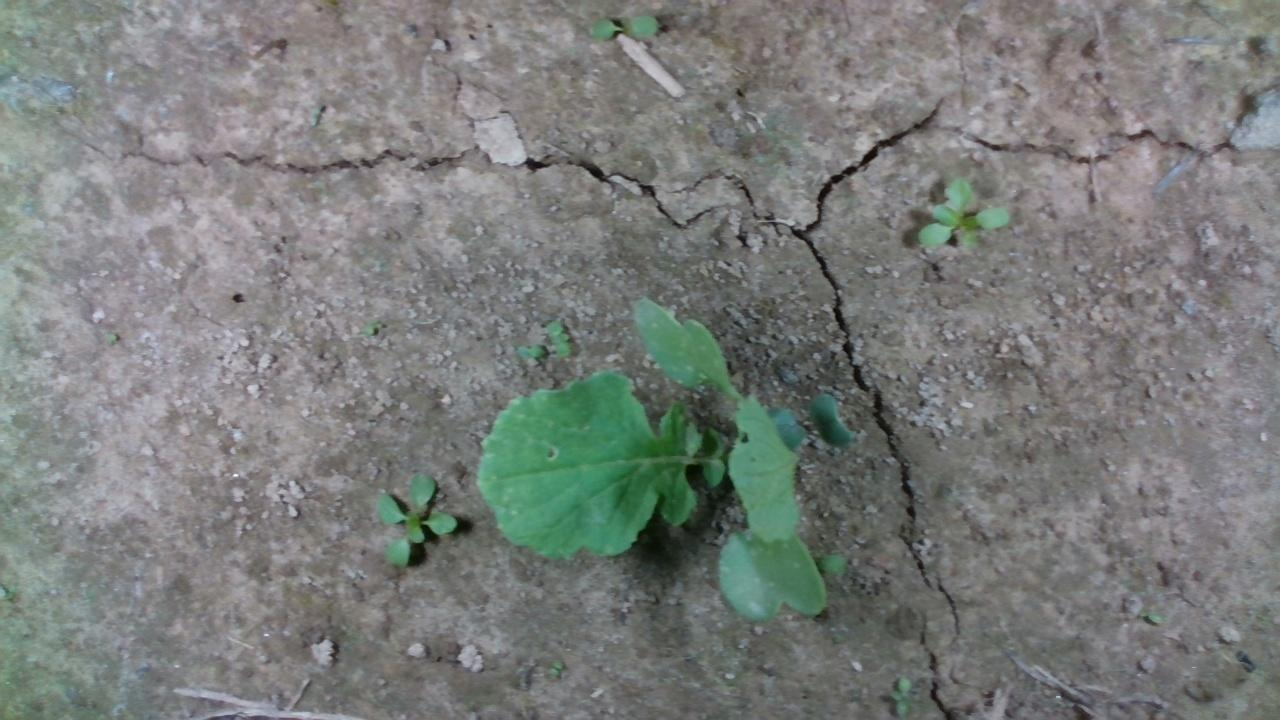weed: (587, 9, 659, 50)
